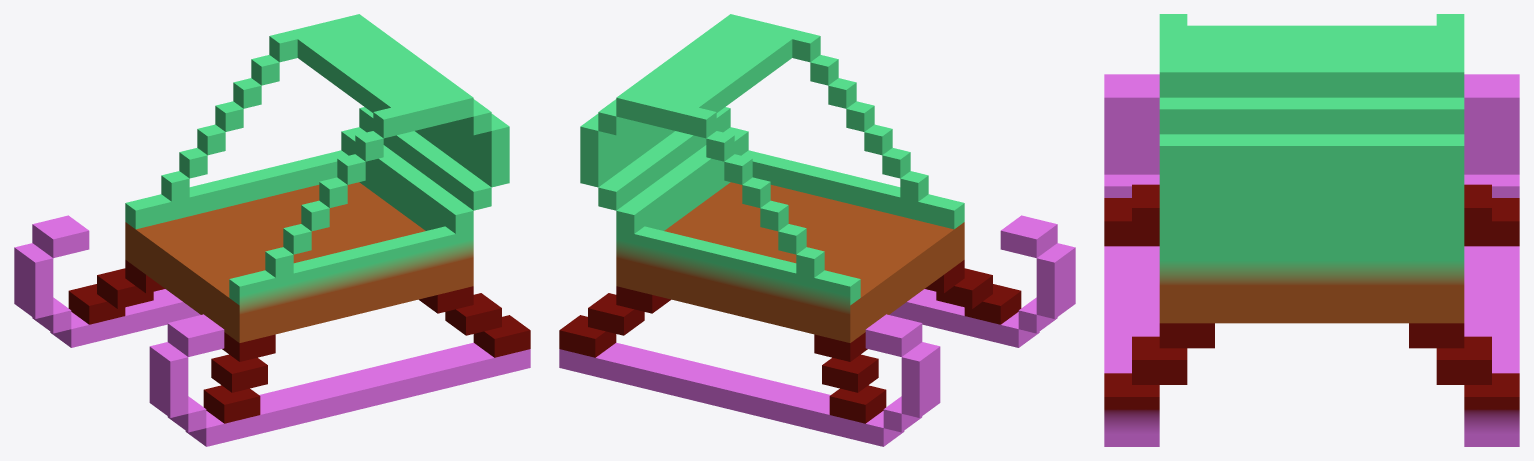
Rendered from Vehicle_26.fbx.
3 renders of one model, left to right at view 1: azimuth 30°, elevation 25°; view 2: azimuth 150°, elevation 25°; view 3: azimuth 270°, elevation 25°, orthographic. The views are drawn at different scales.
Parts seen in each view (by area): view 1: Vehicle_26; view 2: Vehicle_26; view 3: Vehicle_26.
Part boxes in pixels (bbox=[...]): Vehicle_26: bbox=[14, 14, 530, 446]; Vehicle_26: bbox=[559, 14, 1075, 446]; Vehicle_26: bbox=[1104, 14, 1519, 446].
Bounding box in the file's own units: 20 × 14 × 15.
Materials: 1 (1 with a texture image).
